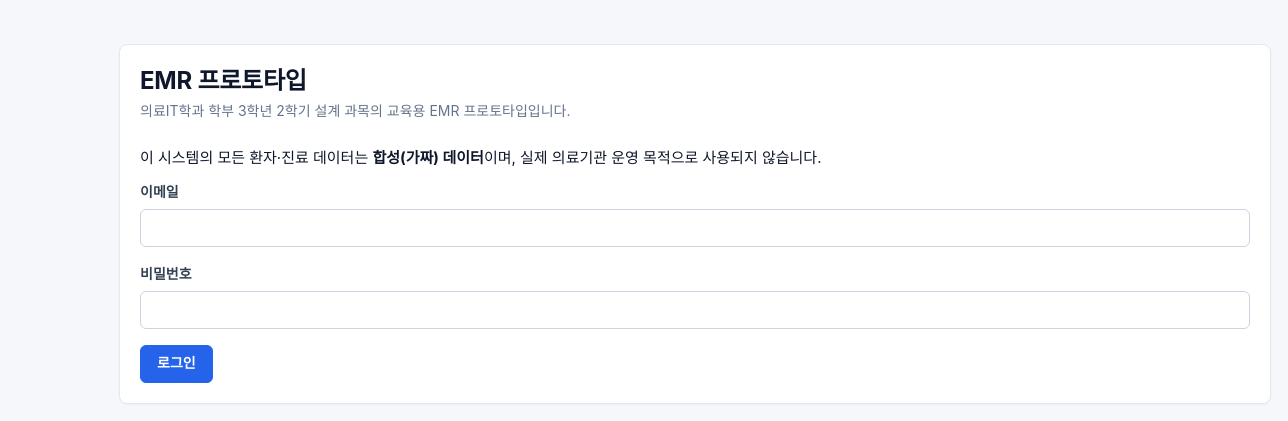
LoginPage › navigates to /patient when the token's role is PATIENT
In the field labelled "이메일": (695, 228) top-left (140, 209), bottom-right (1250, 247), type "patient1@example.test"
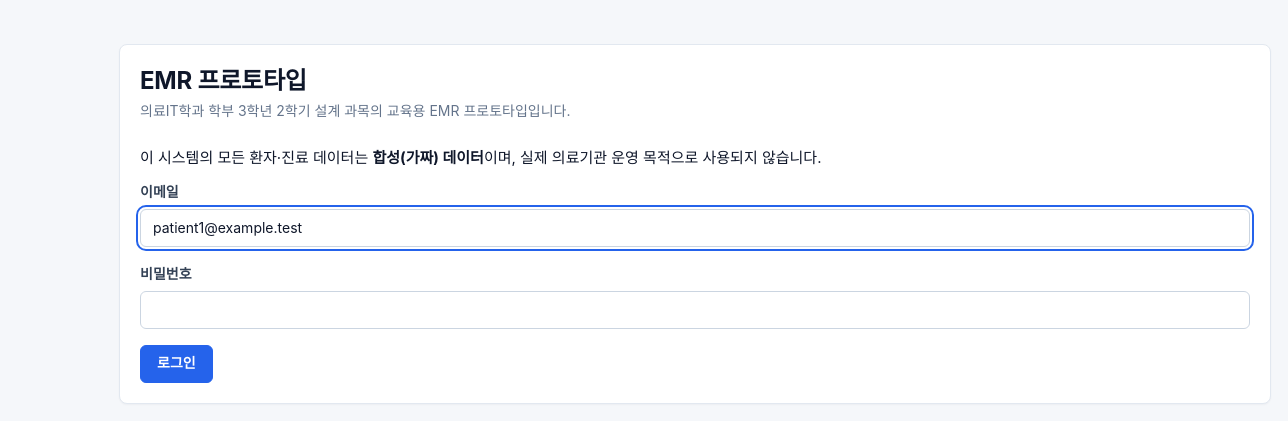
In the password field labelled "비밀번호": (695, 310) top-left (140, 290), bottom-right (1250, 328), type "demo1234"
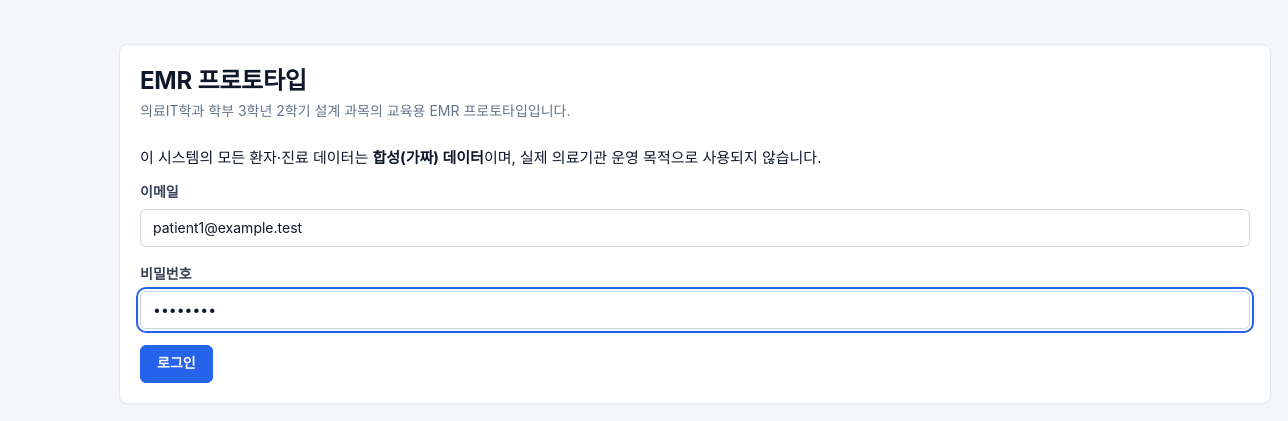
Click the button "로그인": (176, 364) top-left (140, 344), bottom-right (213, 382)
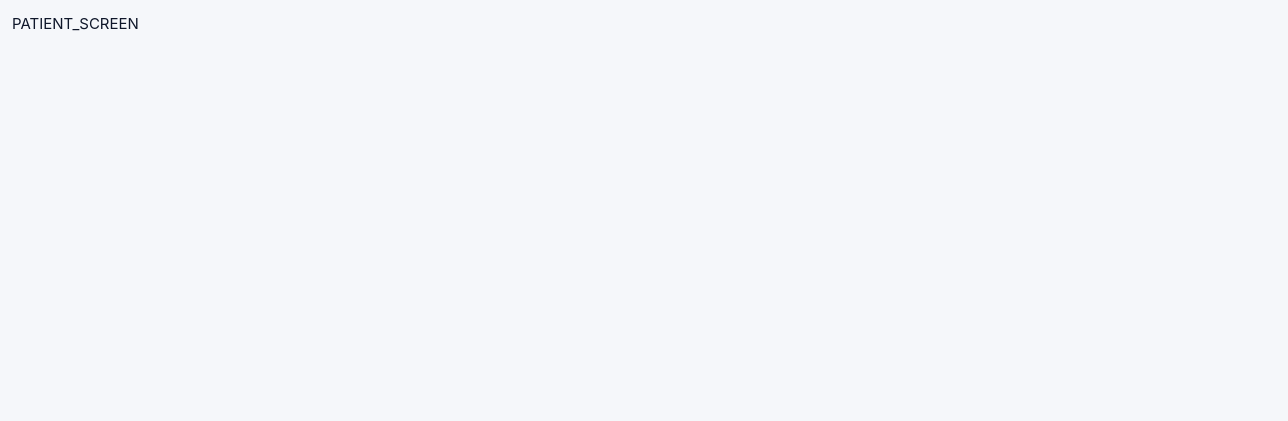
Check: the text "PATIENT_SCREEN" is shown, box top-left (12, 14), bottom-right (139, 33)
